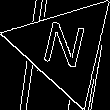N_S: (39, 18, 91, 77)
